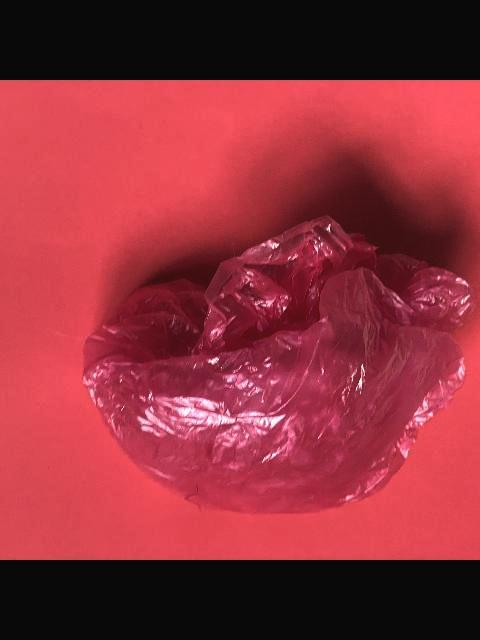plasticbag: (79, 214, 475, 514)
